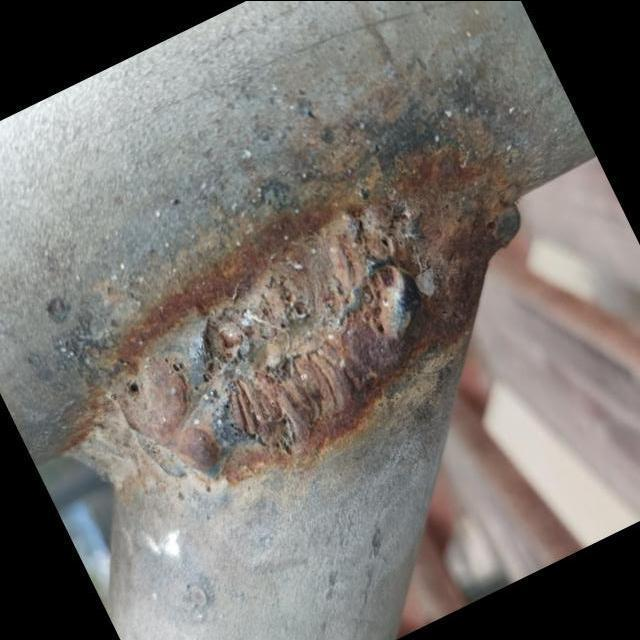defect: (216, 393, 294, 448), (195, 313, 250, 386), (356, 264, 399, 336), (248, 356, 292, 394), (274, 284, 308, 322), (159, 353, 186, 377), (122, 378, 143, 401), (376, 233, 394, 253), (356, 214, 368, 235)
